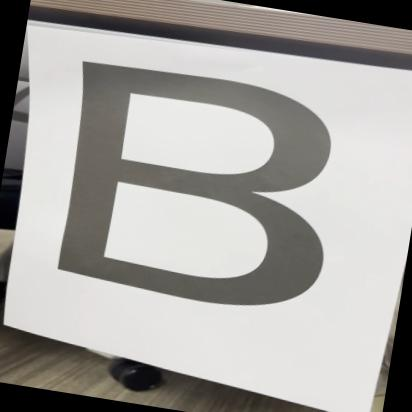seat: (27, 50, 399, 334)
